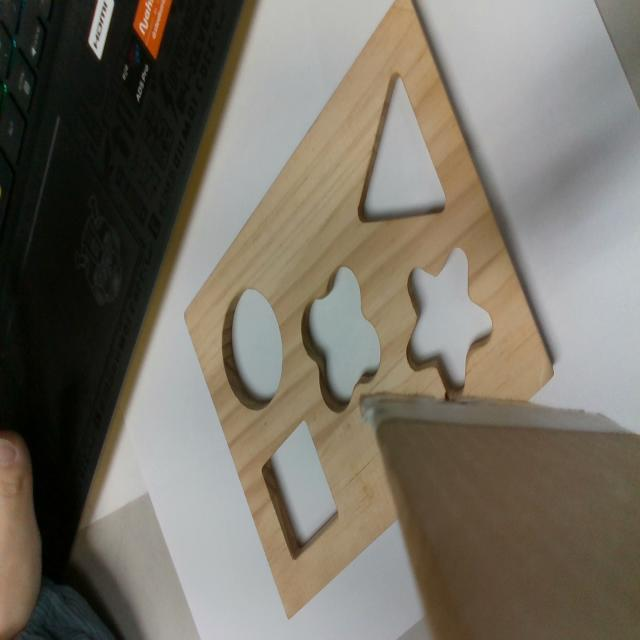circle: (223, 288, 282, 410)
flower: (302, 260, 381, 411)
square: (257, 416, 339, 562)
star: (406, 247, 492, 395)
triangle: (359, 72, 448, 224)
